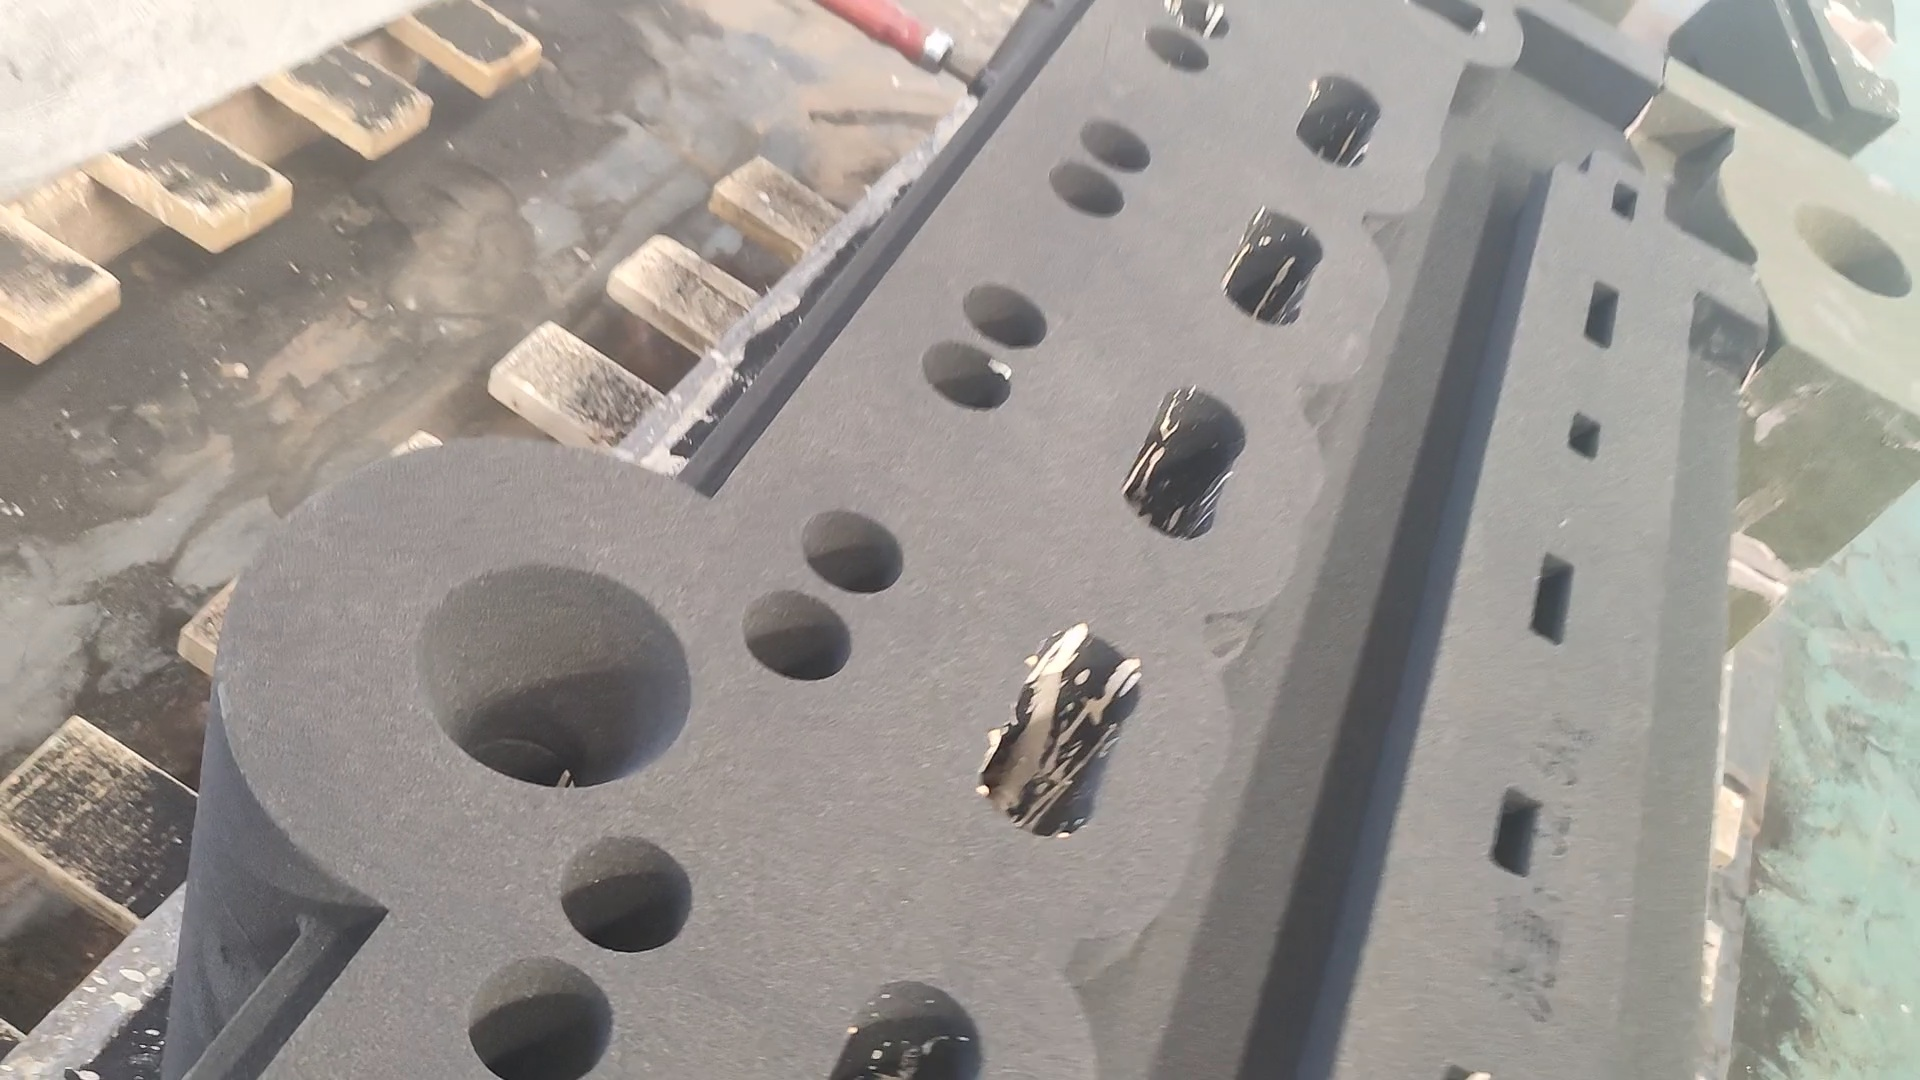pouring hole: (411, 560, 690, 789), (1787, 198, 1912, 299)
